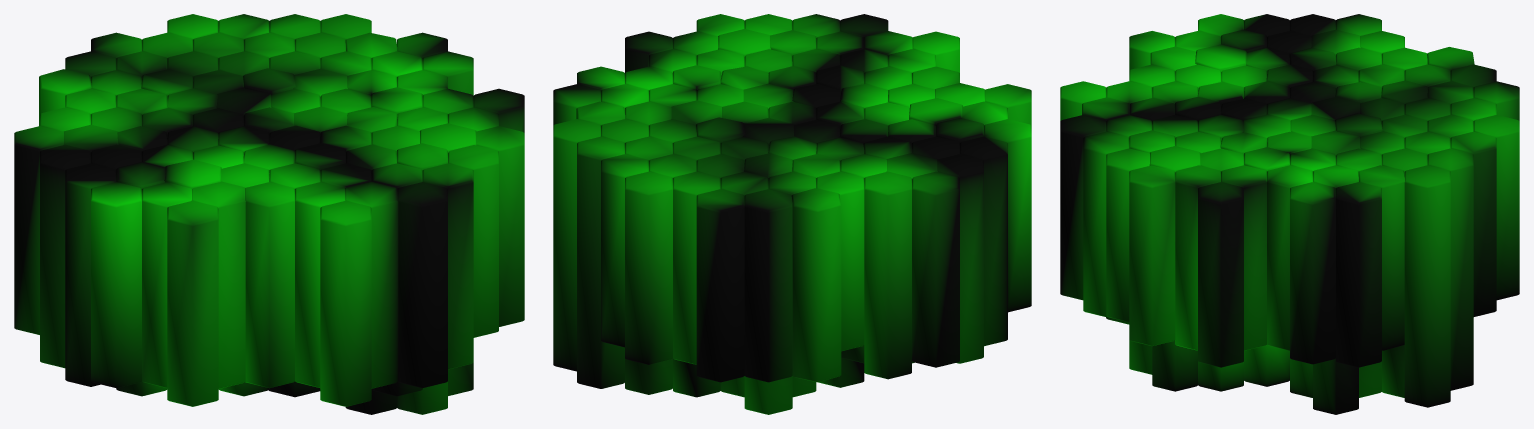
The model's file is SM_RockHexic_Platform03.fbx.
3 views of the same model, side by side, from view 1: azimuth 30°, elevation 25°; view 2: azimuth 150°, elevation 25°; view 3: azimuth 270°, elevation 25° (orthographic). The views are drawn at different scales.
Parts seen in each view (by area): view 1: SM_RockHexic_Platform03; view 2: SM_RockHexic_Platform03; view 3: SM_RockHexic_Platform03.
Boxes of the visible parts, x1,y1,x2,y2 form: SM_RockHexic_Platform03: [14, 14, 524, 414]; SM_RockHexic_Platform03: [553, 14, 1031, 414]; SM_RockHexic_Platform03: [1060, 14, 1519, 414].
Bounding box in the file's own units: 3173 × 3233 × 1801.
